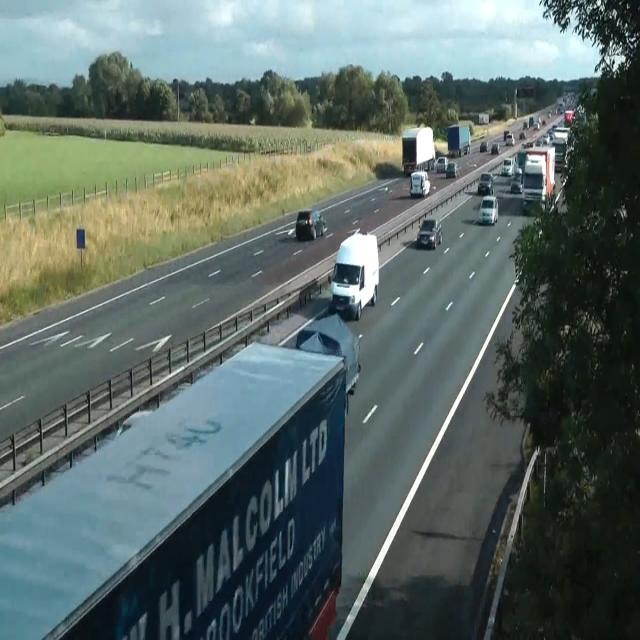bus: (295, 208, 327, 241), (417, 218, 442, 250), (477, 172, 493, 195), (445, 162, 461, 178), (509, 179, 522, 193), (506, 132, 514, 146), (491, 142, 499, 155), (480, 140, 488, 152), (519, 130, 525, 140), (533, 122, 539, 130)
car: (1, 339, 347, 638)
jeep: (294, 312, 362, 396), (327, 231, 379, 320), (478, 195, 498, 225), (409, 170, 430, 198), (434, 156, 448, 172)
minibus: (521, 145, 555, 214), (402, 125, 436, 175), (447, 125, 471, 156), (479, 112, 489, 124)
